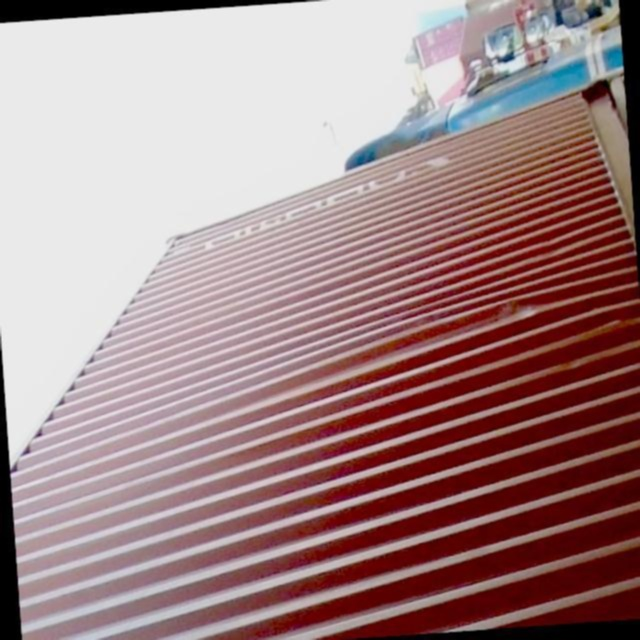Dent: (397, 293, 578, 350)
